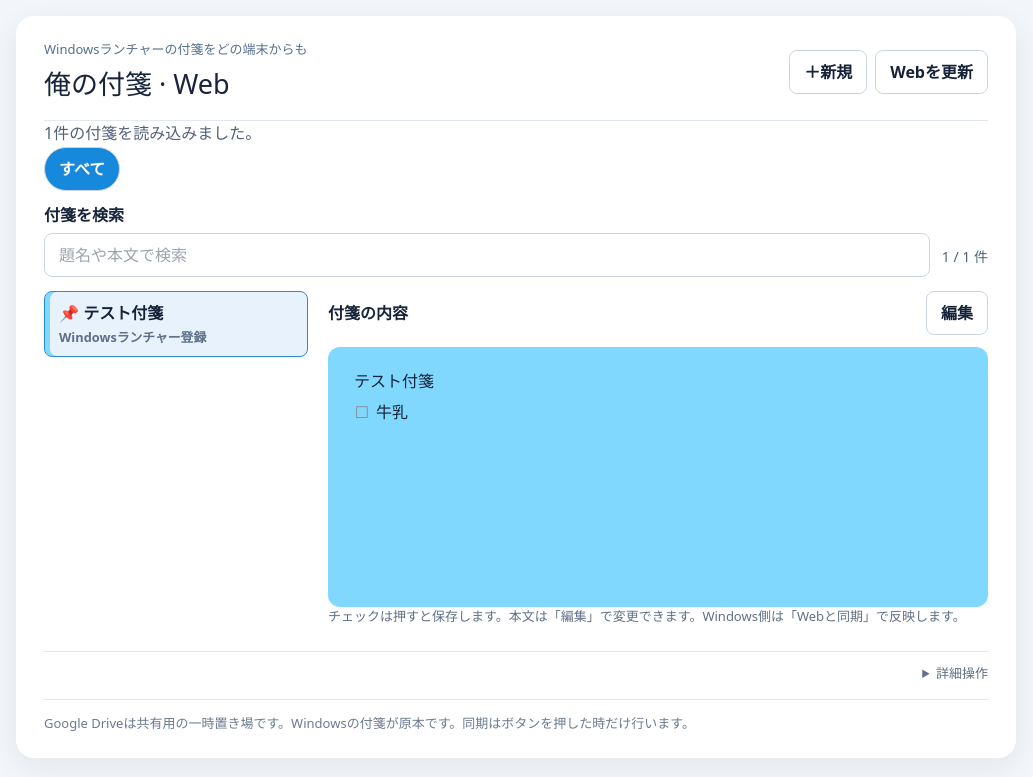
Test: shared note editor › 保存後の読込失敗を成功と表示しない
Click the checkbox named "牛乳". click: (362, 412)
box: [354,400,370,424]
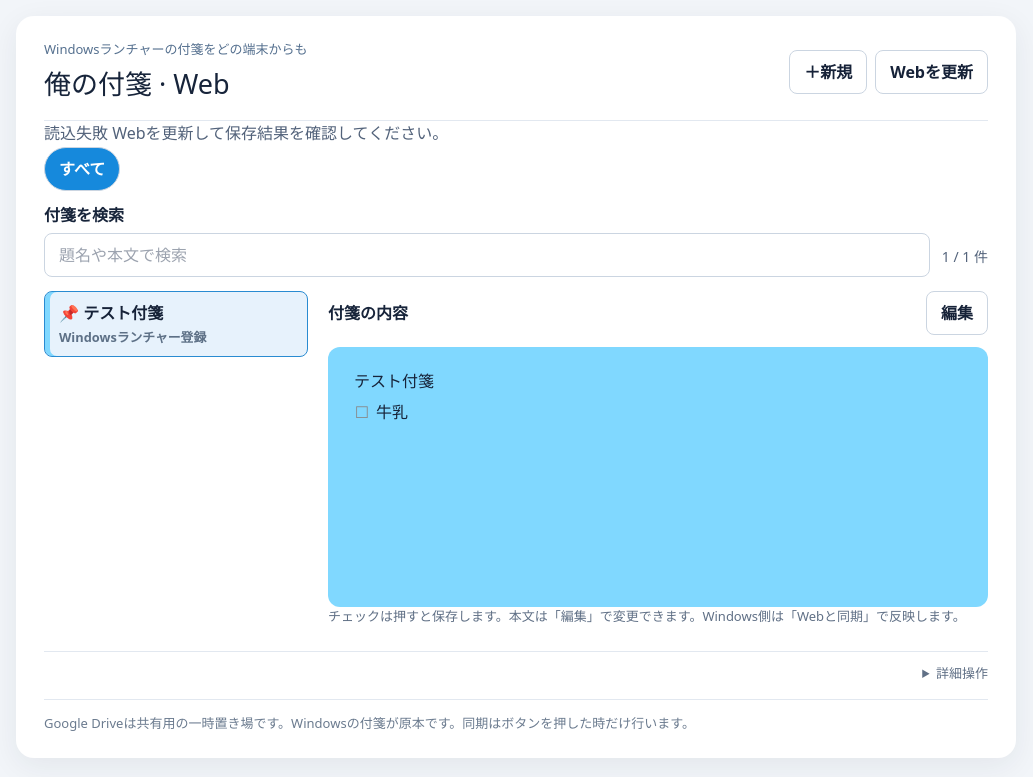
Now the text "読込失敗 Webを更新して保存結果を確認してください。" is shown, box [44,122,448,144]
